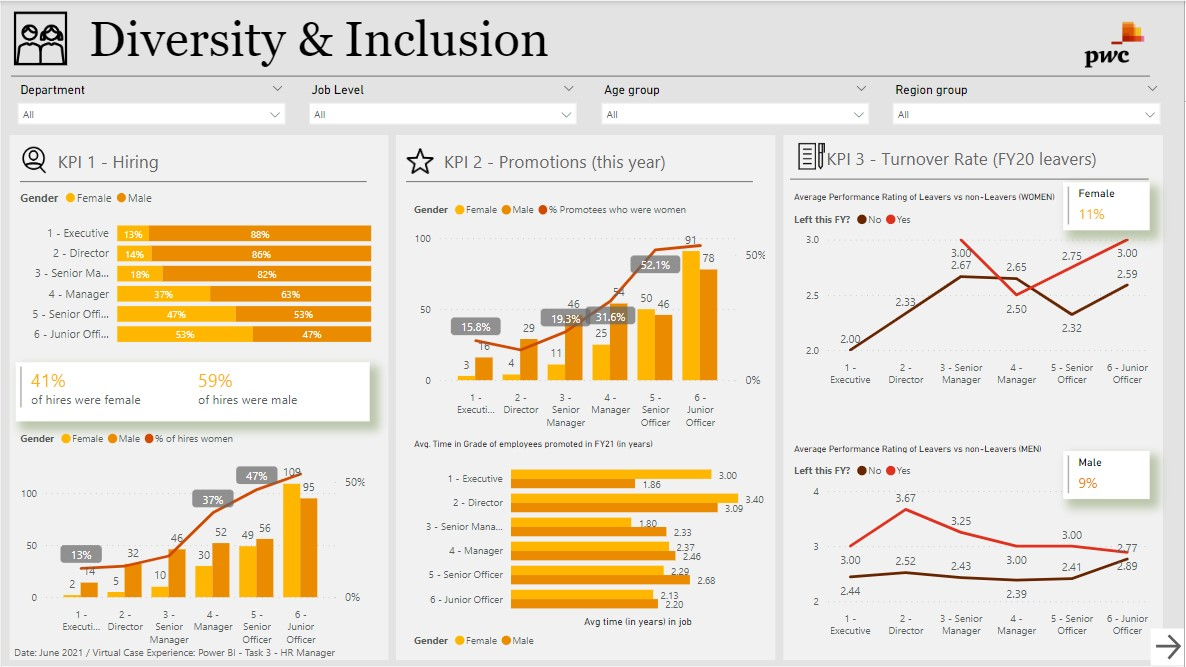

The dashboard page shown, as its layout file describes it:
{"tool":"powerbi","page":{"name":"HR Manager (1/2)","canvas":[1280,720],"ordinal":0},"visuals":[{"type":"textbox","box":[88.7,4.8,1172.9,75.2],"z":0},{"type":"basicShape","box":[0,60.8,1253,40.5],"z":1000},{"type":"basicShape","box":[3.9,139.9,418.6,579.7],"z":2000},{"type":"hundredPercentStackedBarChart","fields":{"Series":["HR Manager.Gender"],"Y":["CountNonNull(HR Manager.Employee ID)"],"Category":["HR Manager.Job Level after FY20 promotions"]},"box":[14.5,193.9,389.7,190],"z":3000},{"type":"multiRowCard","fields":{"Values":["HR Manager.% of hires women","HR Manager.% of hires men"]},"box":[14.5,390.7,382.9,63.7],"z":4000},{"type":"lineClusteredColumnComboChart","fields":{"Category":["HR Manager.Job Level after FY20 promotions"],"Series":["HR Manager.Gender"],"Y":["CountNonNull(HR Manager.Employee ID)"],"Y2":["HR Manager.% of hires women"]},"box":[14.5,455.3,382.9,250.8],"z":5000},{"type":"textbox","box":[55,155.3,315.4,35.7],"z":6000},{"type":"basicShape","box":[9.6,175.6,395.5,39.5],"z":7000},{"type":"basicShape","box":[422.5,139.9,419.6,579.7],"z":8000},{"type":"textbox","box":[473,155.7,315.4,35.7],"z":9000},{"type":"basicShape","box":[427.7,175.9,395.5,39.5],"z":10000},{"type":"image","box":[433.1,153.4,39.5,40.5],"z":11000},{"type":"lineClusteredColumnComboChart","fields":{"Y":["CountNonNull(HR Manager.Employee ID)"],"Series":["HR Manager.Gender"],"Y2":["HR Manager.% Promotees who were women"],"Category":["HR Manager.Job Level after FY21 promotions"]},"box":[441.8,207.4,389.7,263.3],"z":12000},{"type":"image","box":[1129,0,151,94.5],"z":13000},{"type":"image","box":[8.7,0,67.5,81],"z":14000},{"type":"image","box":[15.4,153.4,39.5,38.6],"z":15000},{"type":"basicShape","box":[842.1,139.9,419.6,579.7],"z":16000},{"type":"basicShape","box":[843.4,173,408,39.5],"z":17000},{"type":"textbox","box":[888.5,152.5,315.4,35.7],"z":18000},{"type":"clusteredBarChart","title":"Avg. Time in Grade of employees promoted in FY21 (in years)","fields":{"Category":["HR Manager.Job Level after FY20 promotions"],"Series":["HR Manager.Gender"],"Y":["Sum(HR Manager.Time in Job Level @01.07.2020)"]},"box":[441.8,473.6,389.7,236.3],"z":19000},{"type":"lineChart","title":"Average Performance Rating of Leavers vs non-Leavers (WOMEN)","fields":{"Category":["HR Manager.Job Level after FY20 promotions"],"Y":["Sum(HR Manager.FY19 Performance Rating)"],"Series":["HR Manager.FY20 leaver?"]},"box":[852.7,207.4,398.4,218],"z":20000},{"type":"lineChart","title":"Average Performance Rating of Leavers vs non-Leavers (MEN)","fields":{"Category":["HR Manager.Job Level after FY20 promotions"],"Y":["Sum(HR Manager.FY19 Performance Rating)"],"Series":["HR Manager.FY20 leaver?"]},"box":[852.7,479.4,398.4,218],"z":21000},{"type":"multiRowCard","fields":{"Values":["HR Manager.Gender","HR Manager.% Turnover"]},"box":[1148.8,195.8,93.6,52.1],"z":22000},{"type":"multiRowCard","fields":{"Values":["HR Manager.Gender","HR Manager.% Turnover"]},"box":[1148.8,487.1,93.6,52.1],"z":23000},{"type":"slicer","fields":{"Values":["HR Manager.Last Department in FY20"]},"box":[6.8,83.9,310,55.9],"z":24000},{"type":"slicer","fields":{"Values":["HR Manager.Job Level after FY20 promotions"]},"box":[322.5,83.9,310,55.9],"z":25000},{"type":"slicer","fields":{"Values":["HR Manager.Age group"]},"box":[638.2,83.9,310,55.9],"z":26000},{"type":"slicer","fields":{"Values":["HR Manager.Broad region group: nationality 1"]},"box":[954,83.9,310,55.9],"z":27000},{"type":"image","box":[852.7,149.5,47.3,38.6],"z":28000},{"type":"actionButton","box":[1243.1,679.1,36.9,40.2],"z":29000},{"type":"textbox","box":[7.7,689.7,397.4,29.9],"z":30000}]}

Visuals, with their boxes in screenshot pixels (x1, y1, x2, y2), scaled from the page's 1280x720 canvas onto the 1186x667 screenshot:
textbox: [x1=82, y1=4, x2=1169, y2=74]
basicShape: [x1=0, y1=56, x2=1161, y2=94]
basicShape: [x1=4, y1=130, x2=391, y2=666]
hundredPercentStackedBarChart - HR Manager.Gender x CountNonNull(HR Manager.Employee ID): [x1=13, y1=180, x2=375, y2=356]
multiRowCard - HR Manager.% of hires women x HR Manager.% of hires men: [x1=13, y1=362, x2=368, y2=421]
lineClusteredColumnComboChart - HR Manager.Job Level after FY20 promotions x HR Manager.Gender: [x1=13, y1=422, x2=368, y2=654]
textbox: [x1=51, y1=144, x2=343, y2=177]
basicShape: [x1=9, y1=163, x2=375, y2=199]
basicShape: [x1=391, y1=130, x2=780, y2=666]
textbox: [x1=438, y1=144, x2=731, y2=177]
basicShape: [x1=396, y1=163, x2=763, y2=200]
image: [x1=401, y1=142, x2=438, y2=180]
lineClusteredColumnComboChart - CountNonNull(HR Manager.Employee ID) x HR Manager.Gender: [x1=409, y1=192, x2=770, y2=436]
image: [x1=1046, y1=0, x2=1185, y2=88]
image: [x1=8, y1=0, x2=71, y2=75]
image: [x1=14, y1=142, x2=51, y2=178]
basicShape: [x1=780, y1=130, x2=1169, y2=666]
basicShape: [x1=781, y1=160, x2=1160, y2=197]
textbox: [x1=823, y1=141, x2=1115, y2=174]
"Avg. Time in Grade of employees promoted in FY21 (in years)" clusteredBarChart: [x1=409, y1=439, x2=770, y2=658]
"Average Performance Rating of Leavers vs non-Leavers (WOMEN)" lineChart: [x1=790, y1=192, x2=1159, y2=394]
"Average Performance Rating of Leavers vs non-Leavers (MEN)" lineChart: [x1=790, y1=444, x2=1159, y2=646]
multiRowCard - HR Manager.Gender x HR Manager.% Turnover: [x1=1064, y1=181, x2=1151, y2=230]
multiRowCard - HR Manager.Gender x HR Manager.% Turnover: [x1=1064, y1=451, x2=1151, y2=500]
slicer - HR Manager.Last Department in FY20: [x1=6, y1=78, x2=294, y2=130]
slicer - HR Manager.Job Level after FY20 promotions: [x1=299, y1=78, x2=586, y2=130]
slicer - HR Manager.Age group: [x1=591, y1=78, x2=879, y2=130]
slicer - HR Manager.Broad region group: nationality 1: [x1=884, y1=78, x2=1171, y2=130]
image: [x1=790, y1=138, x2=834, y2=174]
actionButton: [x1=1152, y1=629, x2=1185, y2=666]
textbox: [x1=7, y1=639, x2=375, y2=666]
